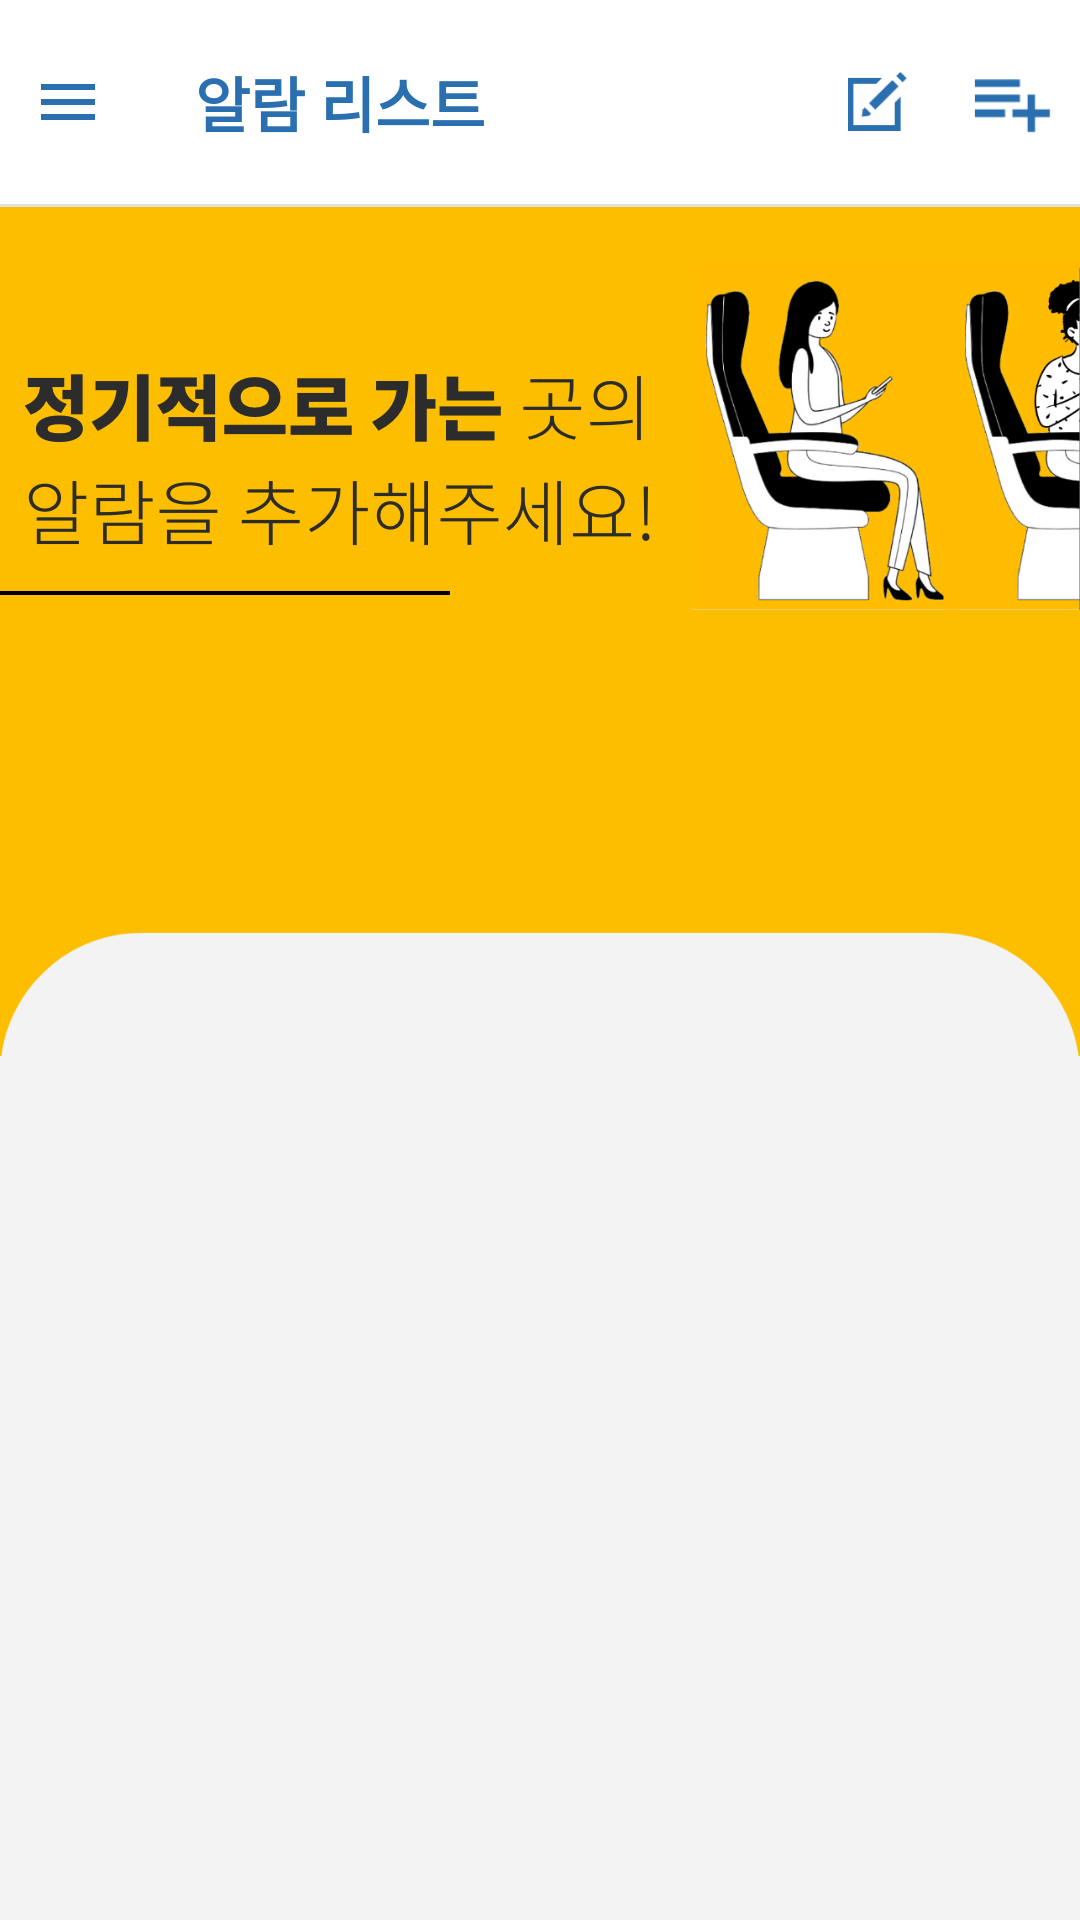

Screen size 1080×1920. Icon name, then its box in pixels as (x1, y1, x2, y2):
menu: (41, 84, 95, 120)
modify: (848, 72, 907, 131)
